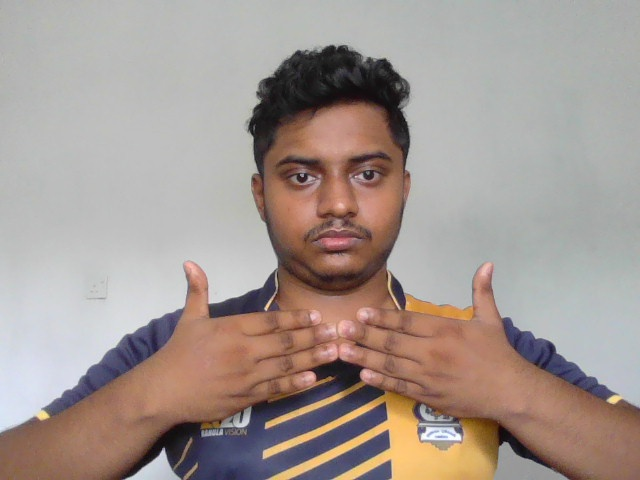Thank You: (163, 254, 511, 434)
